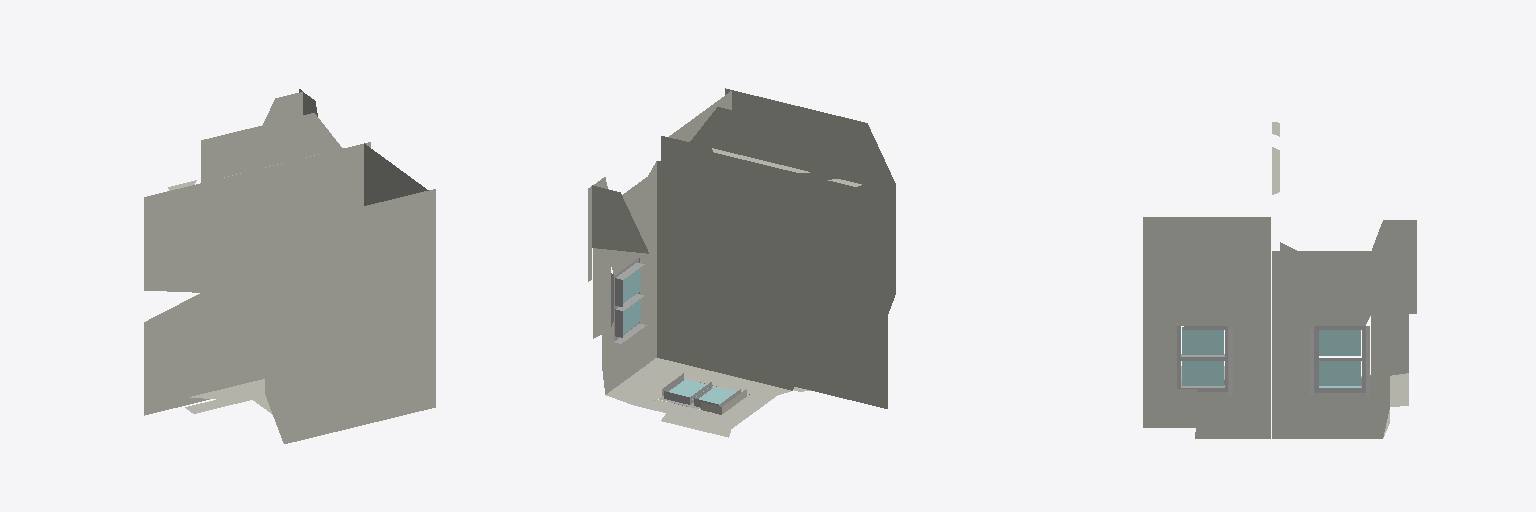
File: Destory5.obj
The picture shows the model from 3 angles: view 1: azimuth 30°, elevation 25°; view 2: azimuth 150°, elevation 25°; view 3: azimuth 270°, elevation 25°; orthographic projection.
Parts seen in each view (by area): view 1: Destory5; view 2: Destory5; view 3: Destory5.
Part boxes in pixels (x1,y1,x2,y2): Destory5: (144, 89, 435, 443); Destory5: (588, 88, 895, 437); Destory5: (1143, 122, 1416, 438).
Bounding box in the file's own units: 6.26 × 6.86 × 6.4.